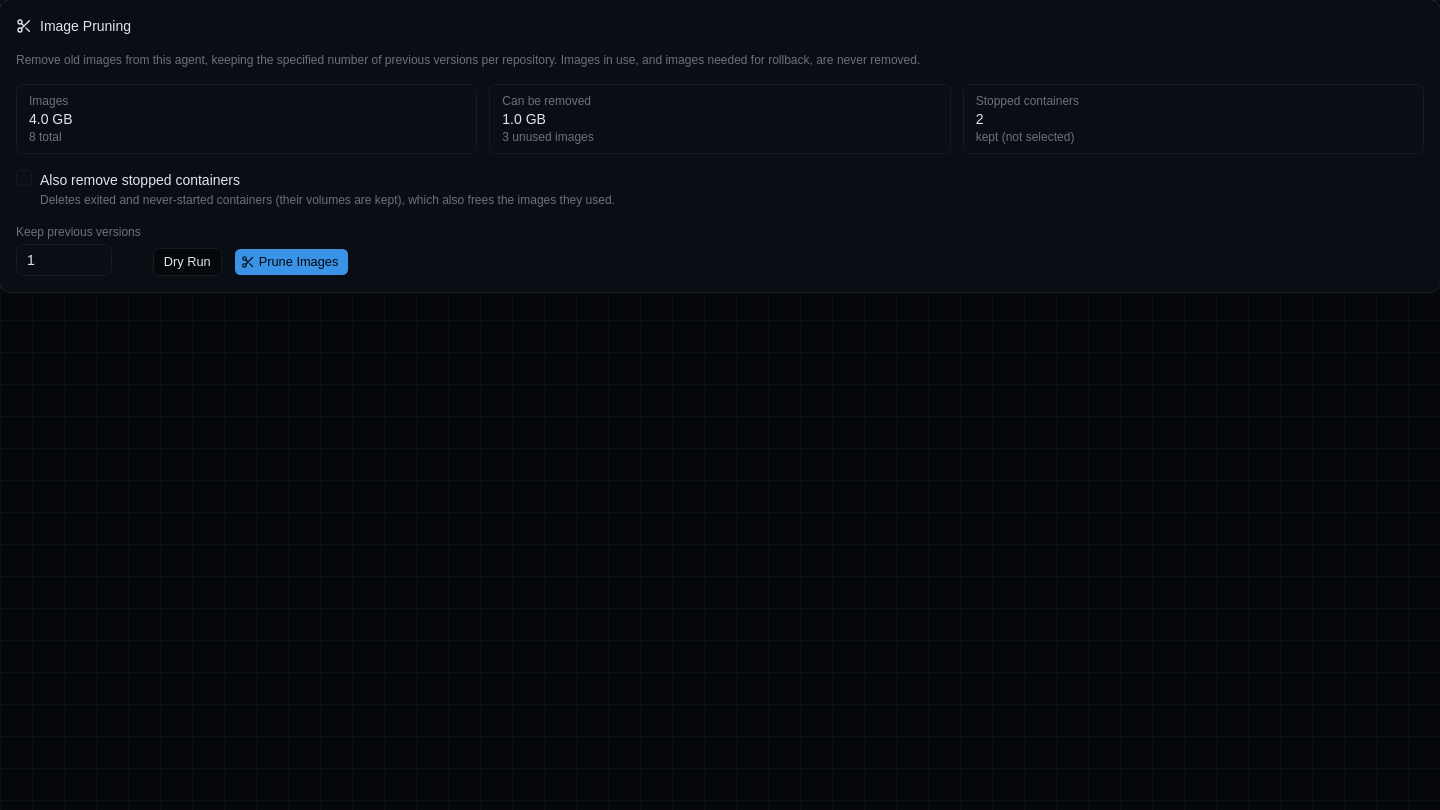
PruneCard › blocks pruning when keep-previous is not a valid number (no silent 0)
Clear the number field labelled "Keep previous versions" at x=64, y=260, box left=16, top=244, right=112, bottom=276
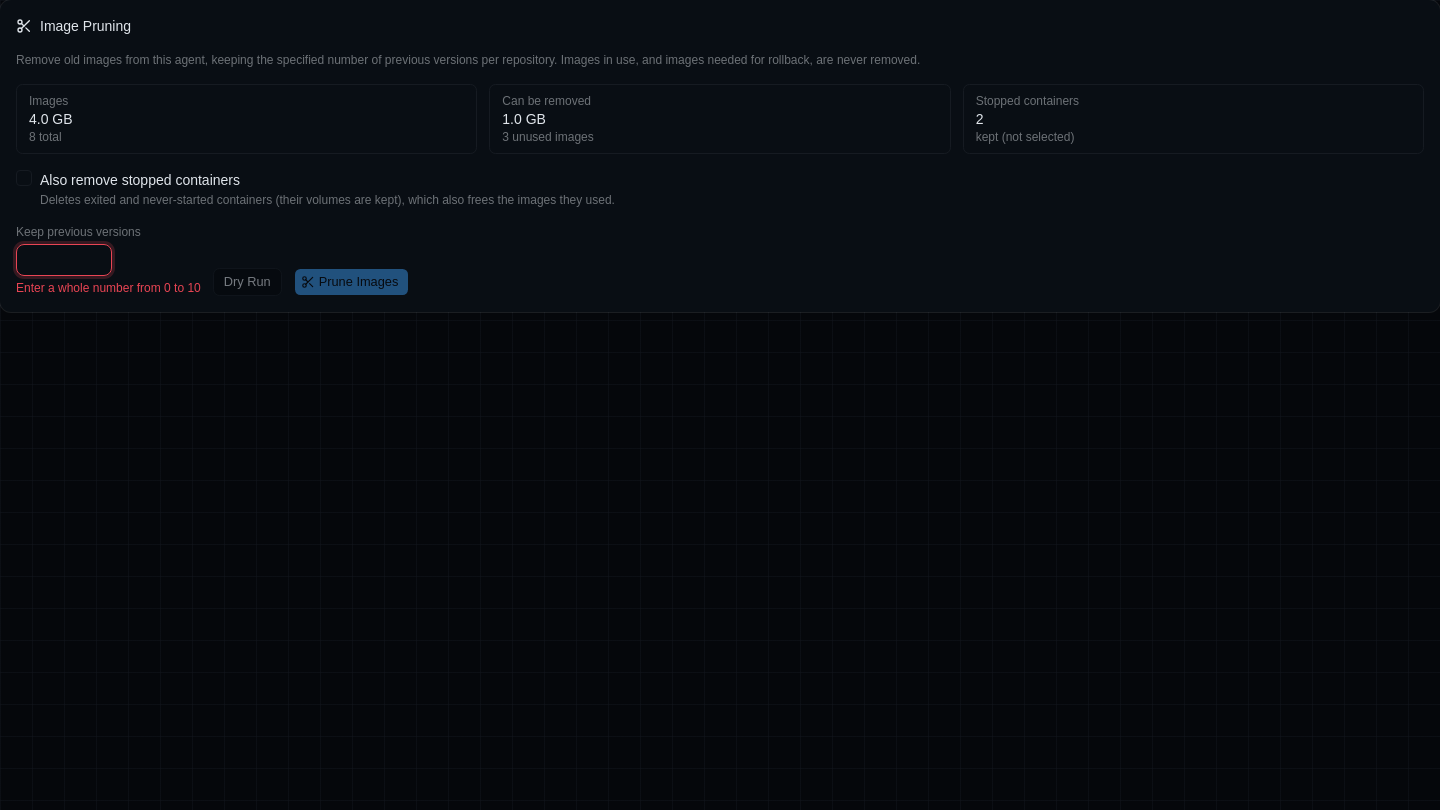
Result: the text "Enter a whole number from 0 to 10" is shown at left=16, top=280, right=201, bottom=296
Result: the button "Prune Images" is disabled at left=294, top=268, right=409, bottom=296
Result: the button "Dry Run" is disabled at left=213, top=268, right=282, bottom=296
